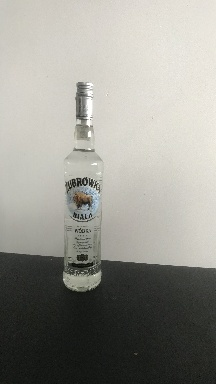butelka: (61, 79, 105, 295)
